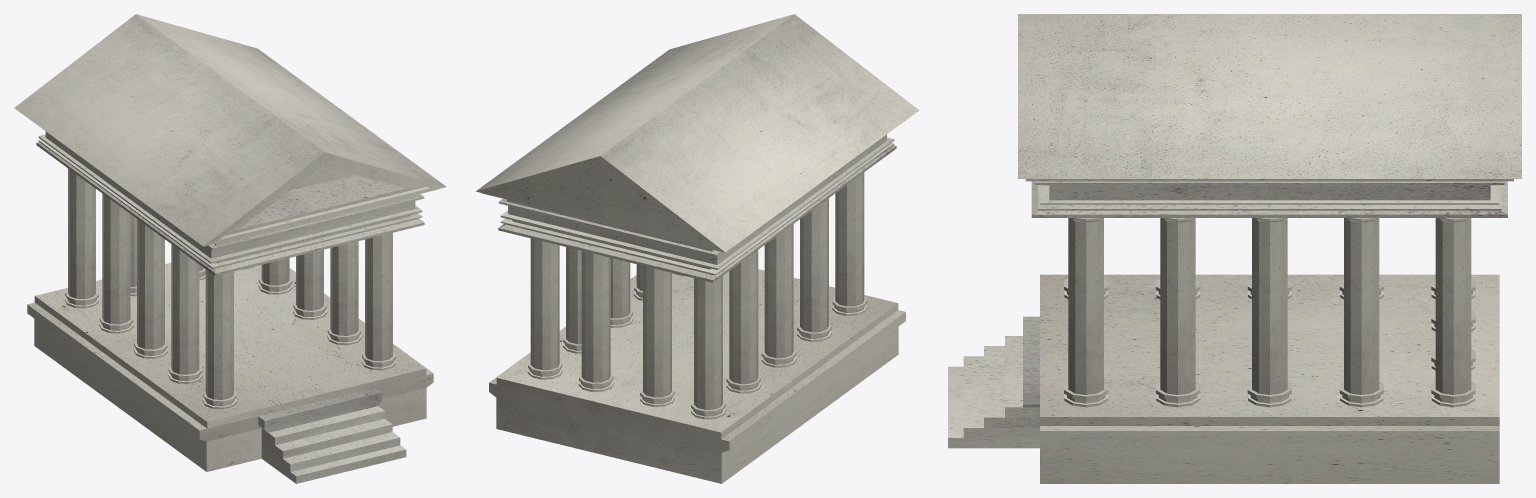
File: olympus_temple.fbx
3 renders of one model, left to right at view 1: azimuth 30°, elevation 25°; view 2: azimuth 150°, elevation 25°; view 3: azimuth 270°, elevation 25°, orthographic. The views are drawn at different scales.
Parts seen in each view (by area): view 1: group12; view 2: group12; view 3: group12.
Boxes of the visible parts, x1=… form: group12: x1=14, y1=14, x2=446, y2=483; group12: x1=476, y1=14, x2=919, y2=483; group12: x1=948, y1=14, x2=1521, y2=483.
Bounding box in the file's own units: 12.26 × 14.36 × 18.74.
1 material, 1 textured.
